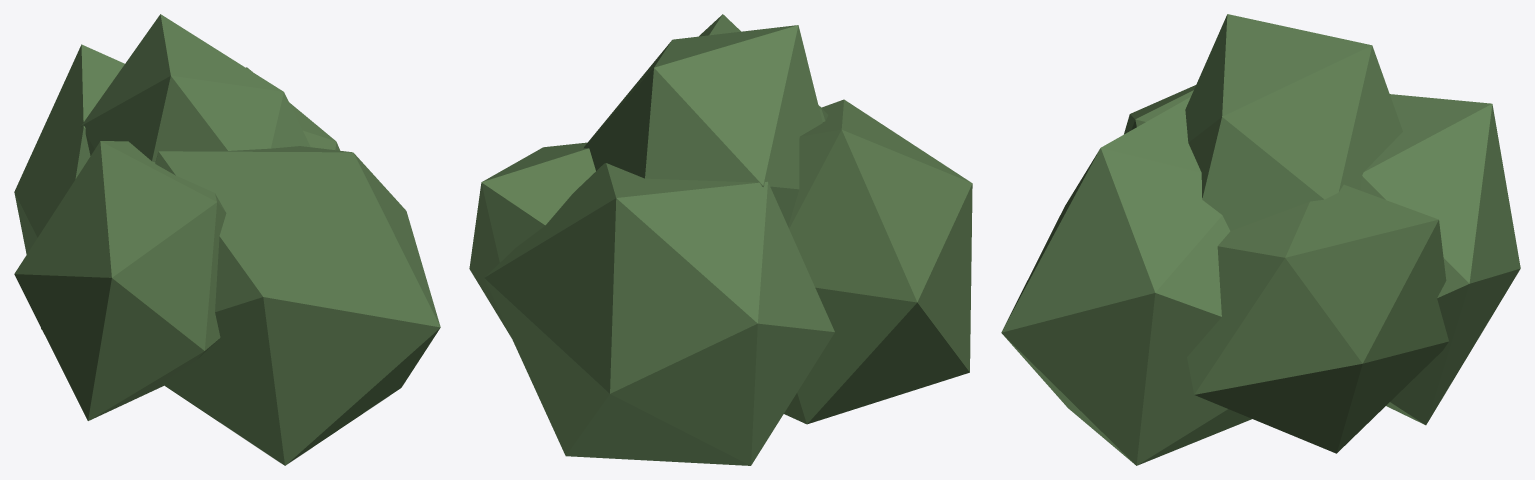
Rendered from v_bush2.glb.
3 views of the same model, side by side, from view 1: azimuth 30°, elevation 25°; view 2: azimuth 150°, elevation 25°; view 3: azimuth 270°, elevation 25° (orthographic). The views are drawn at different scales.
Parts seen in each view (by area): view 1: Bush; view 2: Bush; view 3: Bush.
Boxes of the visible parts, x1,y1,x2,y2 form: Bush: [14, 14, 440, 465]; Bush: [469, 14, 972, 465]; Bush: [1001, 14, 1520, 465].
Size of the model in its own units: 1.1 by 1.06 by 1.32.
